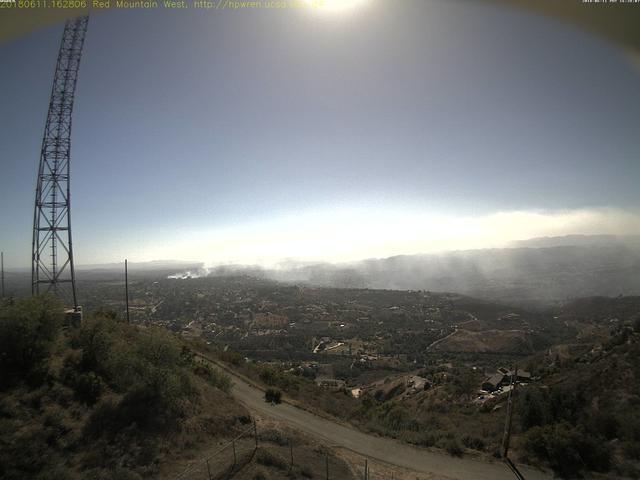smoke: (165, 230, 416, 287)
